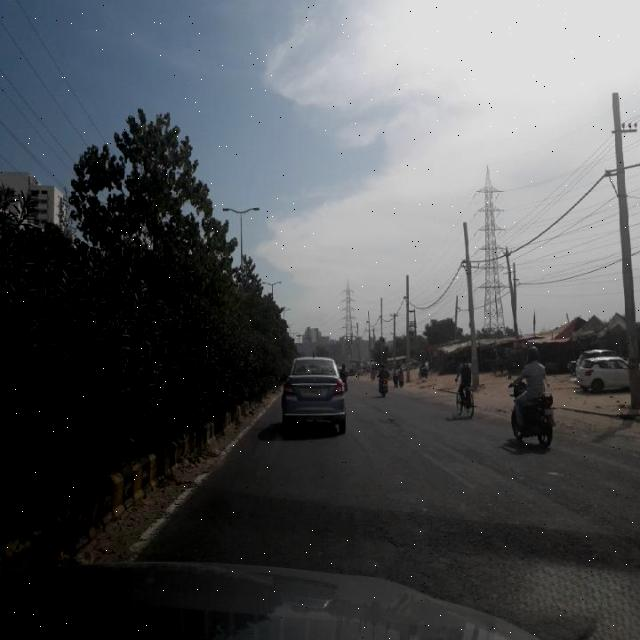D20: (193, 444, 613, 612)
D44: (410, 438, 477, 488)
